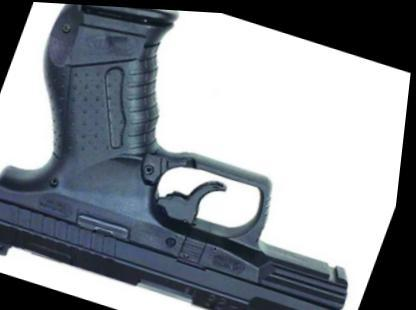pistol: (0, 0, 415, 308)
